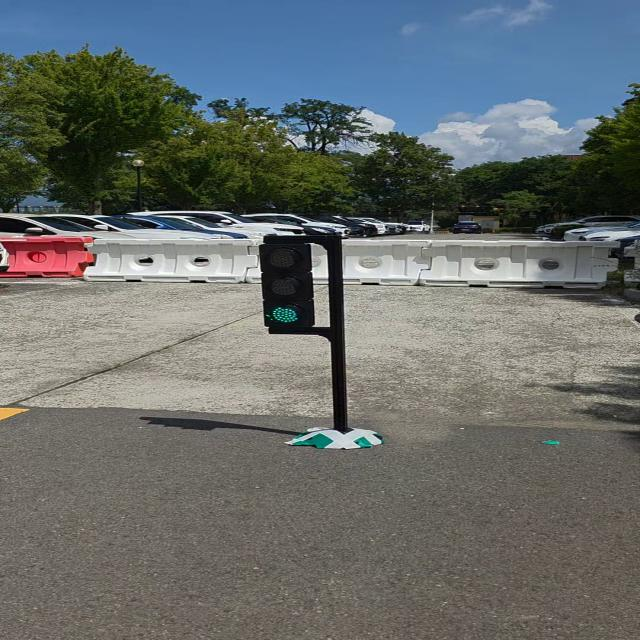green: (258, 238, 311, 332)
